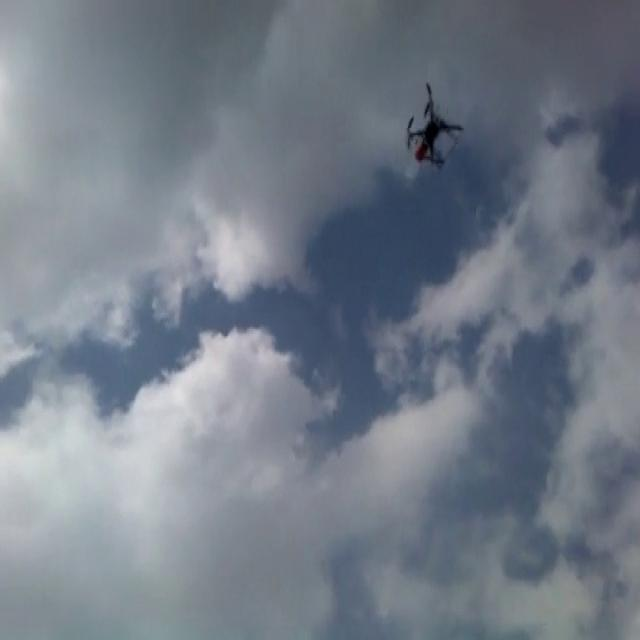drone: (404, 77, 465, 173)
